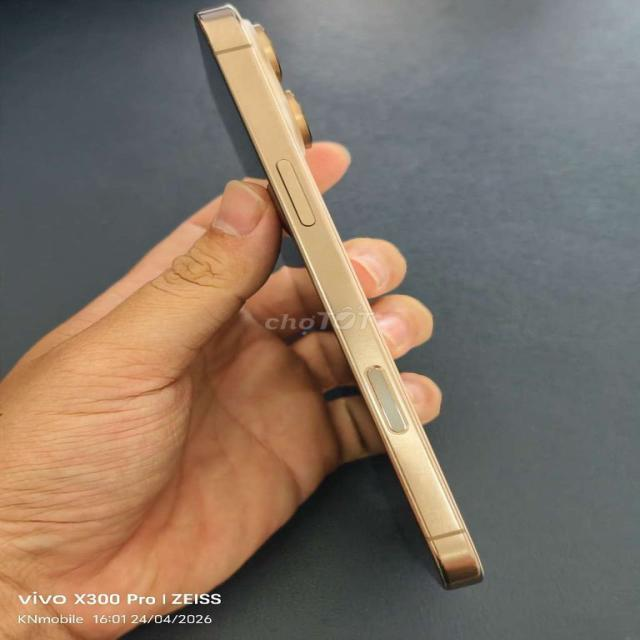gen_16: (196, 4, 481, 588)
